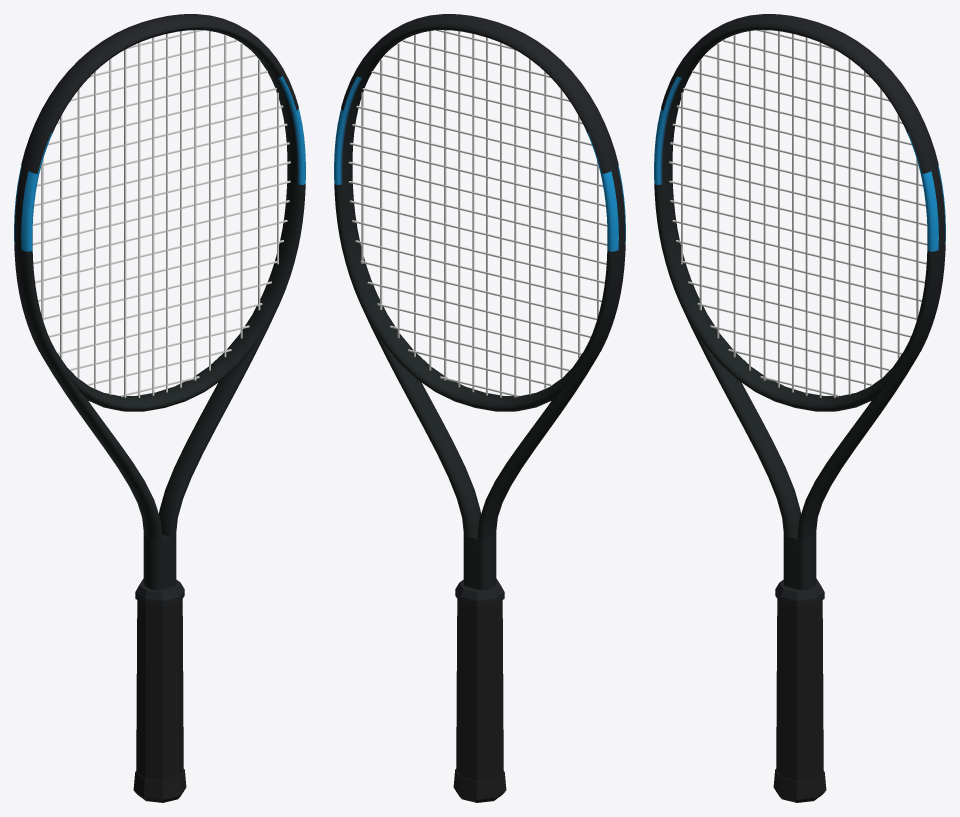
File: babolat-pure-drive-vs-2019.glb
3 renders of one model, left to right at view 1: azimuth 30°, elevation 25°; view 2: azimuth 150°, elevation 25°; view 3: azimuth 330°, elevation 25°, orthographic.
Parts seen in each view (by area): view 1: frame, strings_mains, strings_crosses, grip, bumper, grommets, butt_cap, collar; view 2: frame, strings_mains, strings_crosses, grip, bumper, grommets, butt_cap, collar; view 3: frame, strings_mains, strings_crosses, grip, bumper, grommets, butt_cap, collar.
Part boxes in pixels (bbox=[...]): frame: bbox=[14, 27, 305, 590]; strings_mains: bbox=[41, 30, 278, 397]; strings_crosses: bbox=[32, 30, 290, 396]; grip: bbox=[136, 599, 183, 780]; bumper: bbox=[21, 14, 298, 173]; grommets: bbox=[14, 167, 44, 355]; butt_cap: bbox=[133, 769, 186, 802]; collar: bbox=[135, 578, 184, 607]; frame: bbox=[334, 27, 625, 590]; strings_mains: bbox=[361, 30, 598, 397]; strings_crosses: bbox=[348, 30, 607, 397]; grip: bbox=[456, 599, 503, 780]; bumper: bbox=[341, 14, 618, 173]; grommets: bbox=[595, 167, 625, 355]; butt_cap: bbox=[453, 769, 506, 802]; collar: bbox=[455, 578, 504, 607]; frame: bbox=[654, 27, 945, 590]; strings_mains: bbox=[681, 30, 918, 397]; strings_crosses: bbox=[669, 30, 927, 396]; grip: bbox=[776, 599, 823, 780]; bumper: bbox=[661, 14, 938, 173]; grommets: bbox=[915, 167, 945, 355]; butt_cap: bbox=[773, 769, 826, 802]; collar: bbox=[775, 578, 824, 607].
Size of the model in its own units: 0.2653 by 0.6861 by 0.0396.
